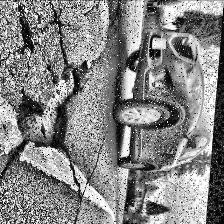pothole: (16, 62, 86, 156)
